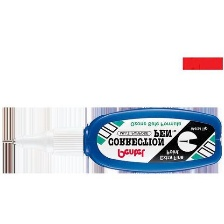correction_fluid: (0, 106, 224, 173)
